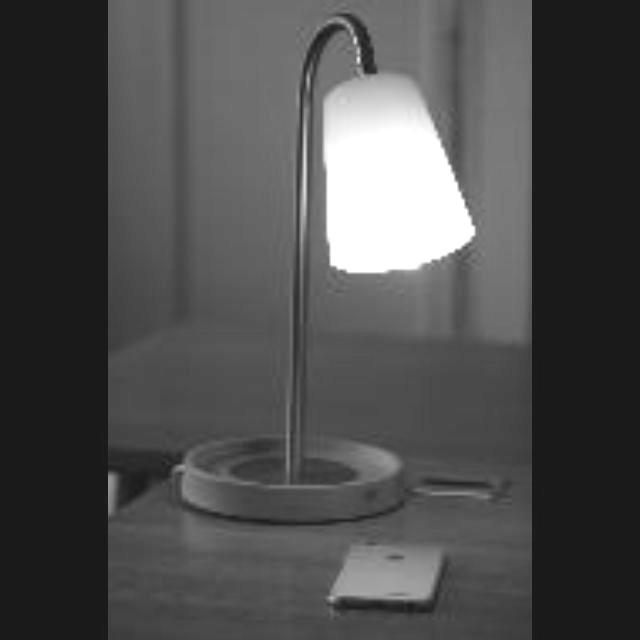fake: (309, 529, 460, 627)
